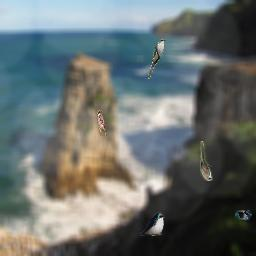Crow: (235, 210, 252, 220)
Cuckoo: (148, 39, 166, 79), (200, 141, 213, 181)
Sparrow: (97, 110, 107, 136)
Swallow: (139, 212, 165, 236)
